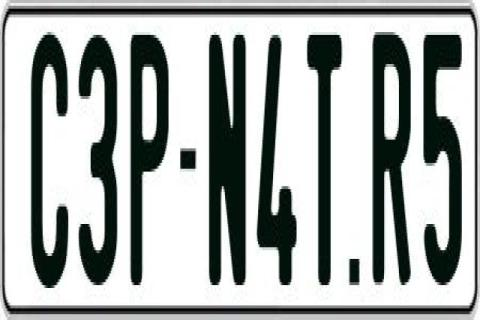0: (421, 32, 465, 288), (256, 32, 298, 291), (76, 32, 118, 282)
C: (30, 27, 68, 297)
N: (207, 35, 248, 285)
P: (130, 32, 172, 294)
R: (371, 32, 411, 291)
T: (307, 35, 345, 299)
